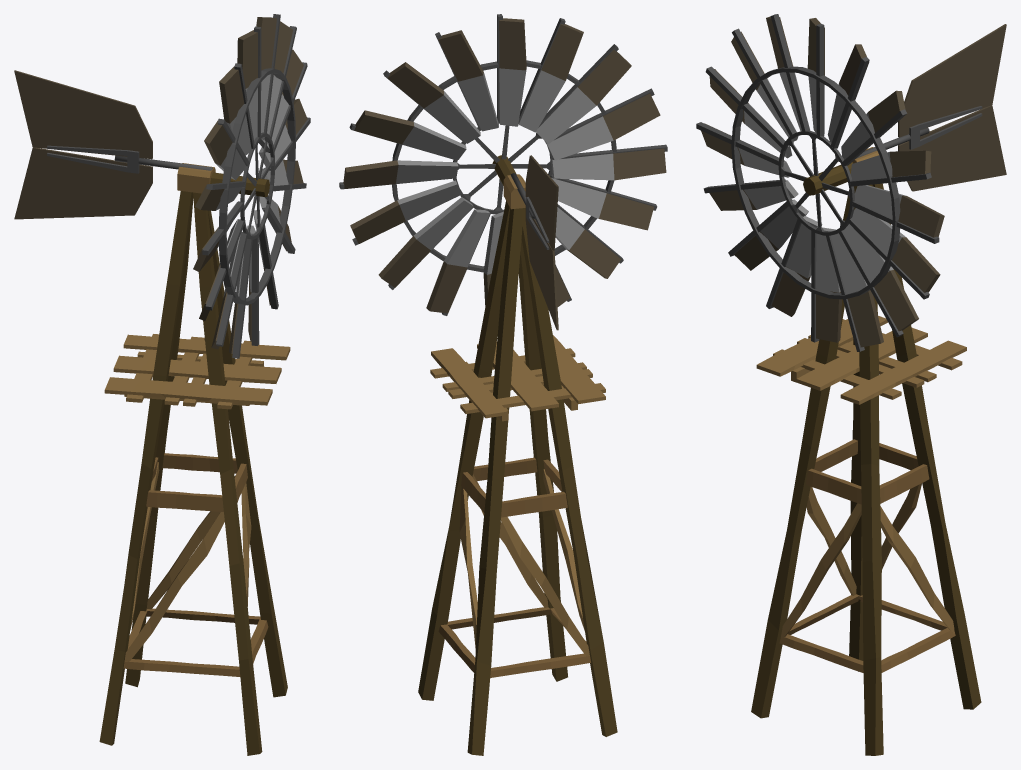
Rendered from WindTower.fbx.
3 renders of one model, left to right at view 1: azimuth 30°, elevation 25°; view 2: azimuth 150°, elevation 25°; view 3: azimuth 270°, elevation 25°, orthographic. The views are drawn at different scales.
Parts seen in each view (by area): view 1: Cube.221; view 2: Cube.221; view 3: Cube.221.
Boxes of the visible parts, x1,y1,x2,y2 form: Cube.221: [14, 14, 310, 755]; Cube.221: [339, 14, 667, 755]; Cube.221: [696, 14, 1006, 755].
Size of the model in its own units: 482 by 1231 by 489.
